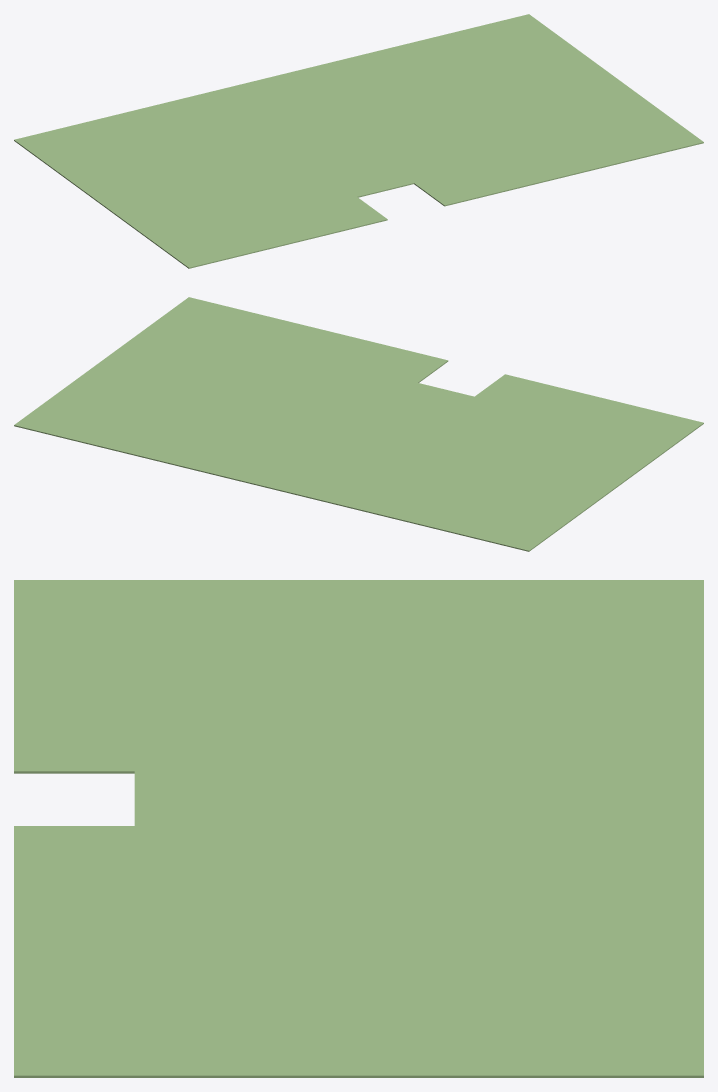
The model's file is lawn_back.glb.
3 views of the same model, one above another, from view 1: azimuth 30°, elevation 25°; view 2: azimuth 150°, elevation 25°; view 3: azimuth 270°, elevation 25° (orthographic). The views are drawn at different scales.
Parts seen in each view (by area): view 1: lawn_back_grass; view 2: lawn_back_grass; view 3: lawn_back_grass.
Boxes of the visible parts, bbox=[...] form: lawn_back_grass: bbox=[14, 14, 703, 268]; lawn_back_grass: bbox=[14, 297, 703, 551]; lawn_back_grass: bbox=[14, 580, 703, 1077].
Size of the model in its own units: 13.6 by 0.028 by 8.
